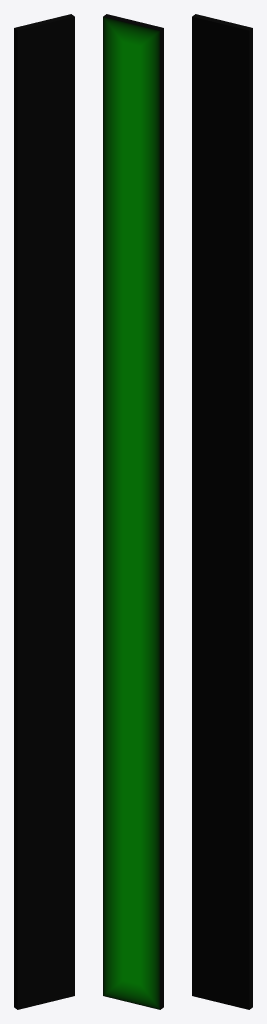
File: LampPost.fbx
3 renders of one model, left to right at view 1: azimuth 30°, elevation 25°; view 2: azimuth 150°, elevation 25°; view 3: azimuth 330°, elevation 25°, orthographic.
Parts seen in each view (by area): view 1: LampPost; view 2: LampPost; view 3: LampPost.
Part boxes in pixels (box(x1,y1,x2,y2)): LampPost: box(14, 14, 74, 1009); LampPost: box(103, 14, 163, 1009); LampPost: box(192, 14, 252, 1009).
Bounding box in the file's own units: 0.918 × 15 × 0.1.
